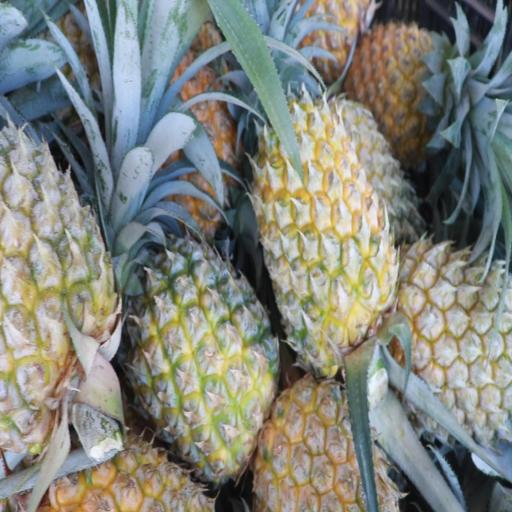------------------------------: (132, 246, 282, 466), (393, 239, 512, 438)
Pineapple - v8 v1: (251, 102, 392, 349), (258, 375, 396, 512), (356, 22, 460, 162)
